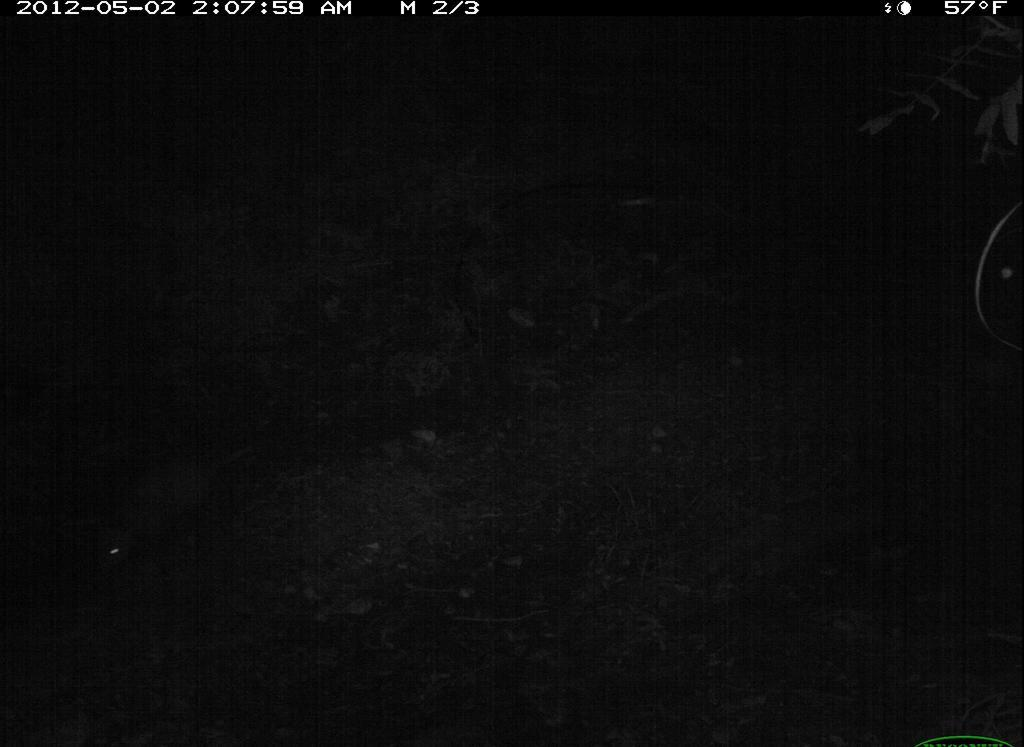opossum: (86, 429, 257, 578)
